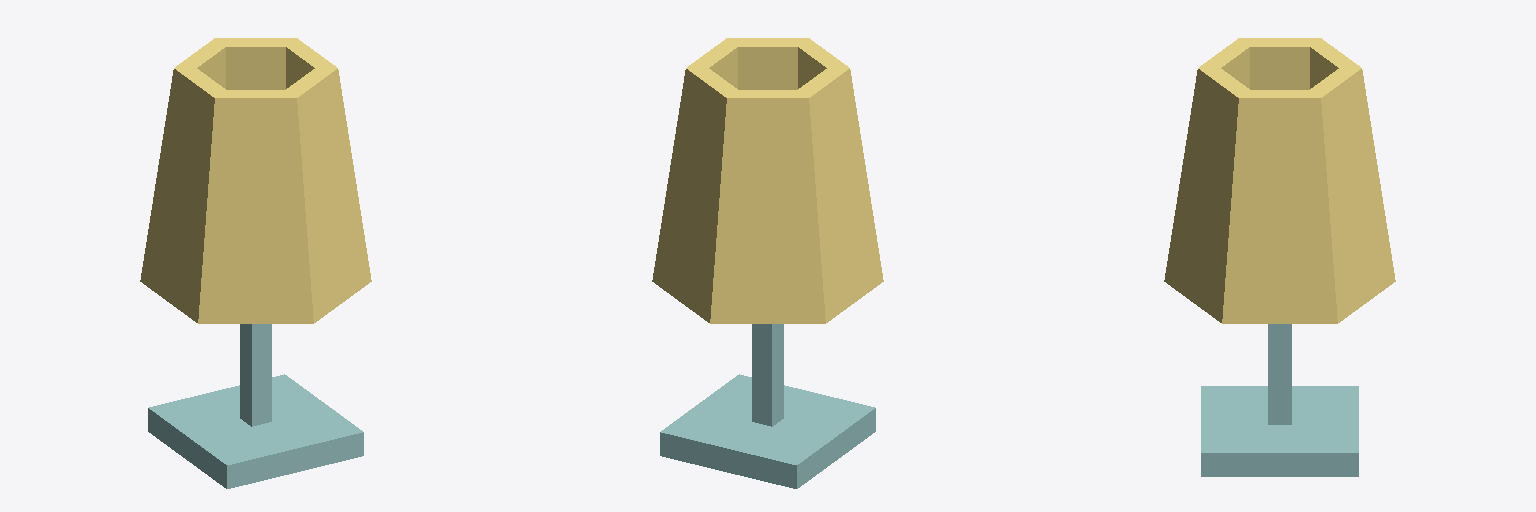
File: lampRoundTable.obj
3 views of the same model, side by side, from view 1: azimuth 30°, elevation 25°; view 2: azimuth 150°, elevation 25°; view 3: azimuth 270°, elevation 25° (orthographic).
Visible parts, largest first — view 1: lampRoundTable; view 2: lampRoundTable; view 3: lampRoundTable.
Boxes of the visible parts, <box> form: lampRoundTable: <box>140,38,371,488</box>; lampRoundTable: <box>652,38,883,488</box>; lampRoundTable: <box>1164,38,1395,476</box>.
Size of the model in its own units: 1.52 by 3.14 by 1.76.